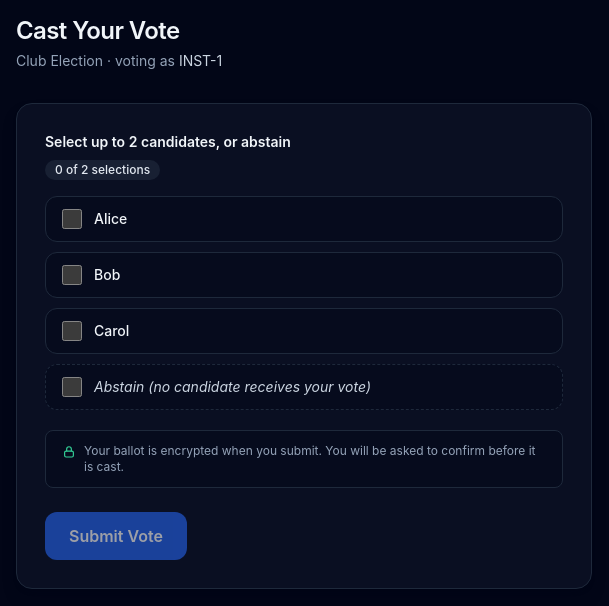
Test: CastVote ballot flexibility › displays a live selection count for multi ballots
Check: the heading "Cast Your Vote" is shown, box top-left (16, 16), bottom-right (180, 45)
Check: the text "0 of 2 selections" is shown, box top-left (45, 160), bottom-right (160, 180)
Step 1. Click the checkbox labelled "Alice" → click(72, 219), box top-left (62, 209), bottom-right (82, 229)
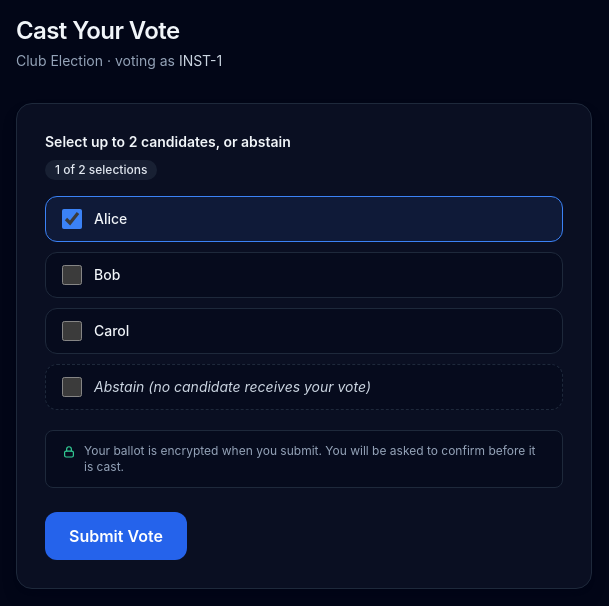
Check: the text "1 of 2 selections" is shown, box top-left (45, 160), bottom-right (157, 180)
